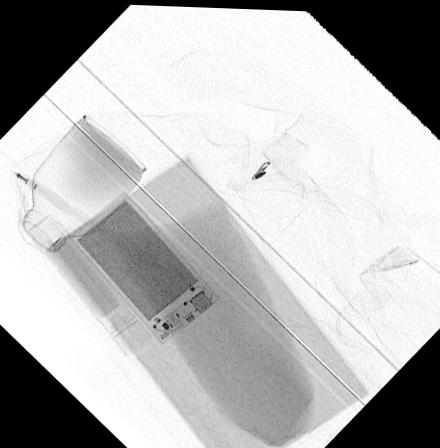Powerbank: (65, 187, 221, 342)
